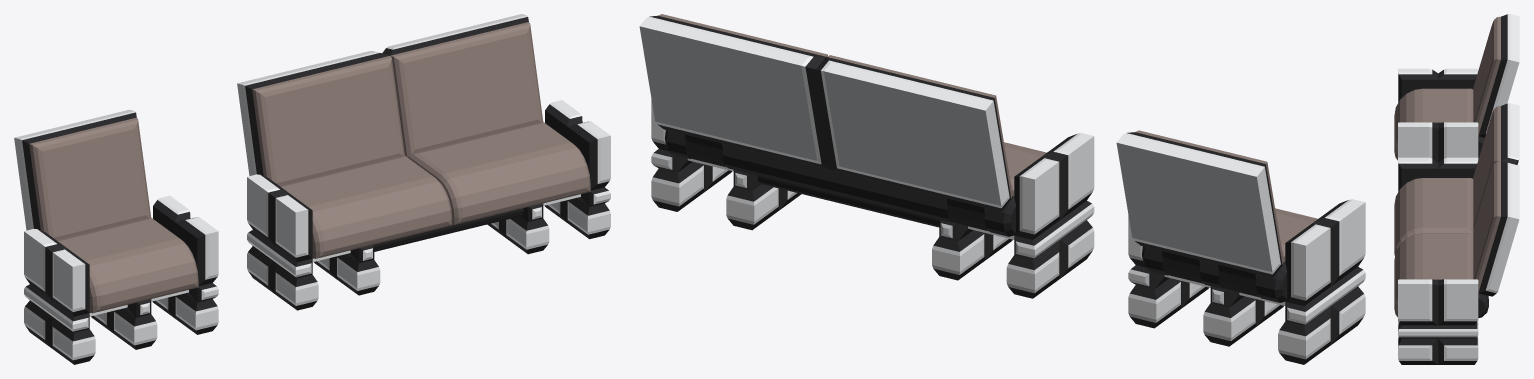
File: sofas.glb
3 renders of one model, left to right at view 1: azimuth 30°, elevation 25°; view 2: azimuth 150°, elevation 25°; view 3: azimuth 270°, elevation 25°, orthographic. The views are drawn at different scales.
Parts seen in each view (by area): view 1: Sofa_Body, Sofa_Spine, SingleSofa_Body, SingleSofa_Spine; view 2: Sofa_Spine, Sofa_Body, SingleSofa_Body, SingleSofa_Spine; view 3: Sofa_Body, SingleSofa_Body, Sofa_Spine, SingleSofa_Spine.
Boxes of the visible parts, bbox=[...] form: Sofa_Body: bbox=[247, 100, 610, 310]; Sofa_Spine: bbox=[237, 14, 543, 185]; SingleSofa_Body: bbox=[24, 195, 218, 364]; SingleSofa_Spine: bbox=[14, 109, 151, 240]; Sofa_Spine: bbox=[639, 14, 1012, 231]; Sofa_Body: bbox=[651, 99, 1094, 298]; SingleSofa_Body: bbox=[1128, 199, 1365, 364]; SingleSofa_Spine: bbox=[1116, 130, 1283, 297]; Sofa_Body: bbox=[1394, 157, 1488, 364]; SingleSofa_Body: bbox=[1394, 68, 1484, 162]; Sofa_Spine: bbox=[1473, 103, 1519, 297]; SingleSofa_Spine: bbox=[1473, 14, 1519, 137].
Bounding box in the file's own units: 350 × 109 × 85.84.
Materials: 1 (1 with a texture image).
